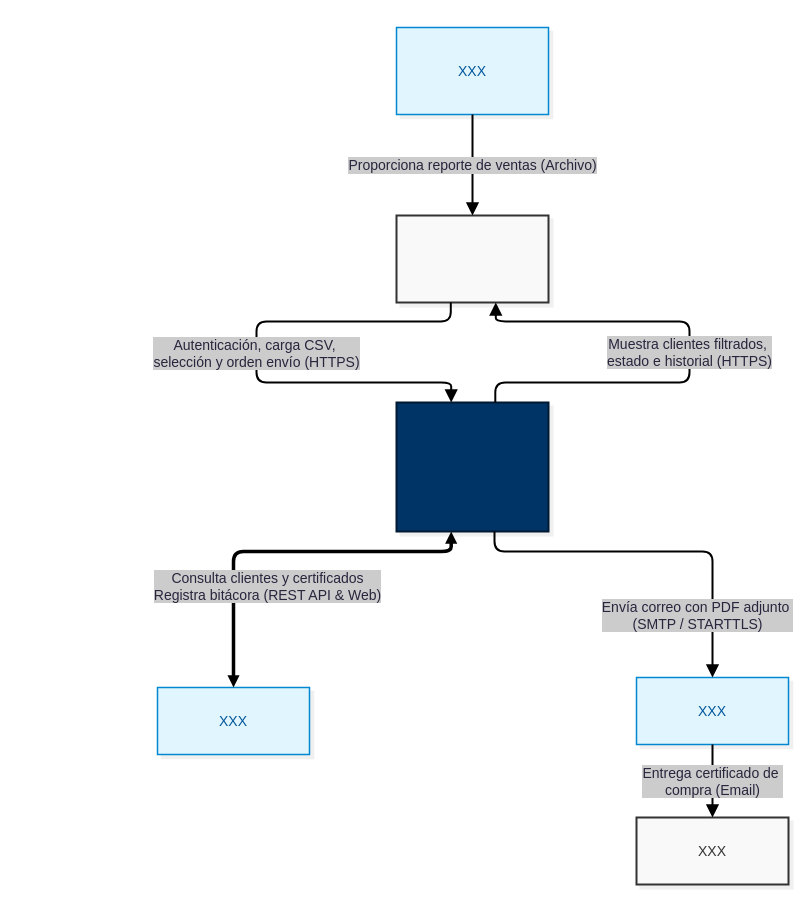
This 810x906 diagram has some shape labels left out. Here are the shapes that lost their labels. From the top down, the centre of each, then its label:
pixel 474 260: P1: Operador (Analista de Servicio / TI)
pixel 474 468: Sistema de Conciliacion
